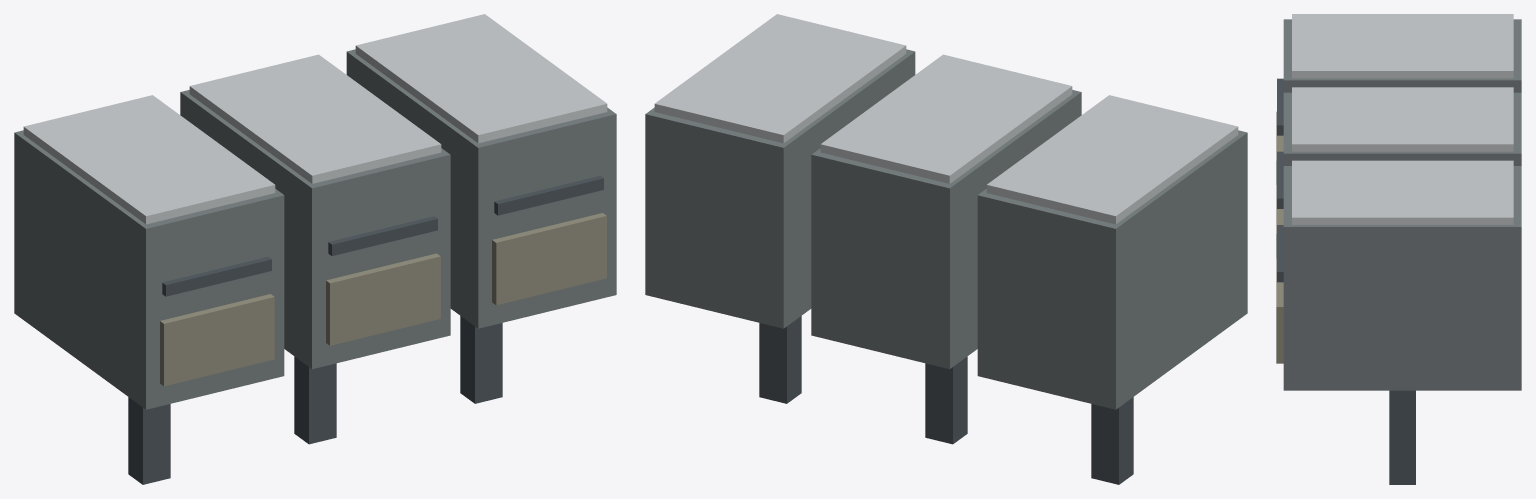
Rendered from post_box_row.glb.
3 views of the same model, side by side, from view 1: azimuth 30°, elevation 25°; view 2: azimuth 150°, elevation 25°; view 3: azimuth 270°, elevation 25° (orthographic). The views are drawn at different scales.
Visible parts, largest first — view 1: post_box_row; view 2: post_box_row; view 3: post_box_row.
Boxes of the visible parts, x1,y1,x2,y2 form: post_box_row: [14, 14, 616, 484]; post_box_row: [645, 14, 1247, 484]; post_box_row: [1276, 14, 1521, 484].
Size of the model in its own units: 1.92 by 1.25 by 0.96.
